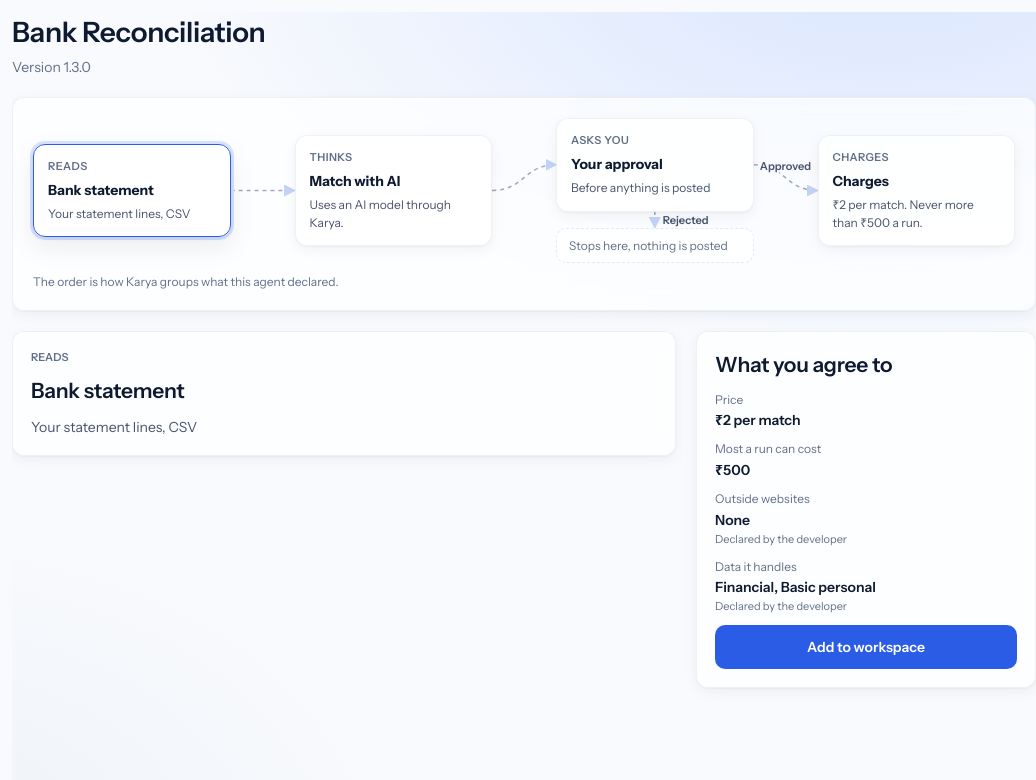
it: shows the selected block in the side panel
Click the button "Asks you Your approval Before anything is posted" at [655, 165], box [556,118,754,212]
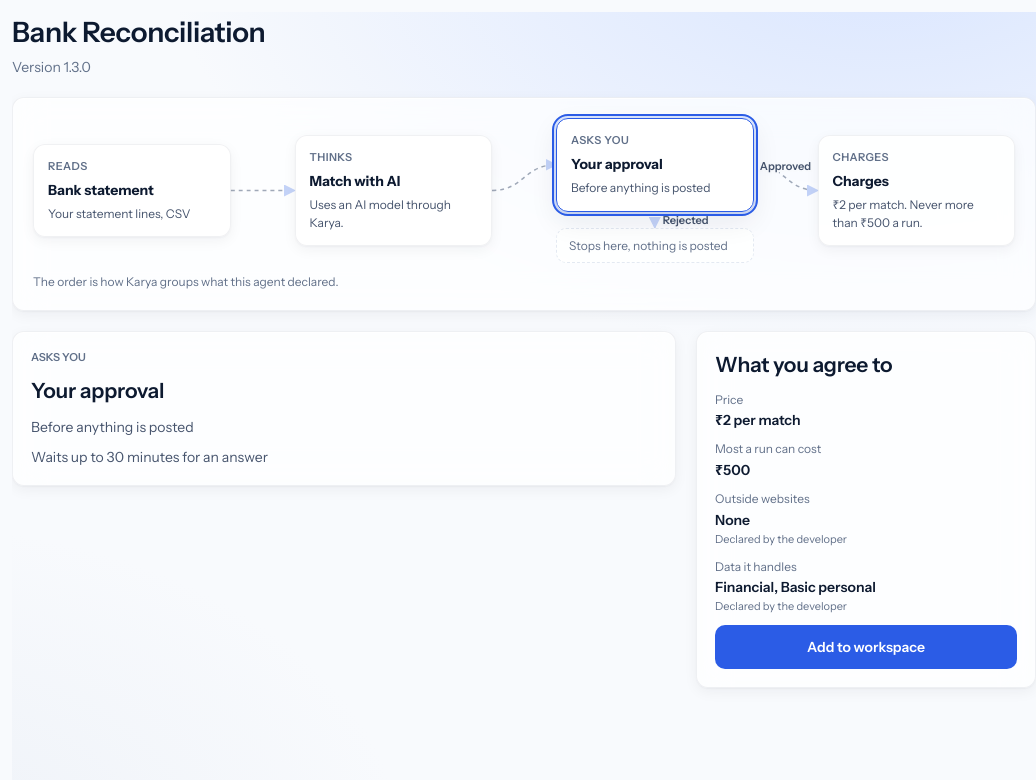
Check: the element named "Selected block" shows "Before anything is posted", box [31,418,194,436]
